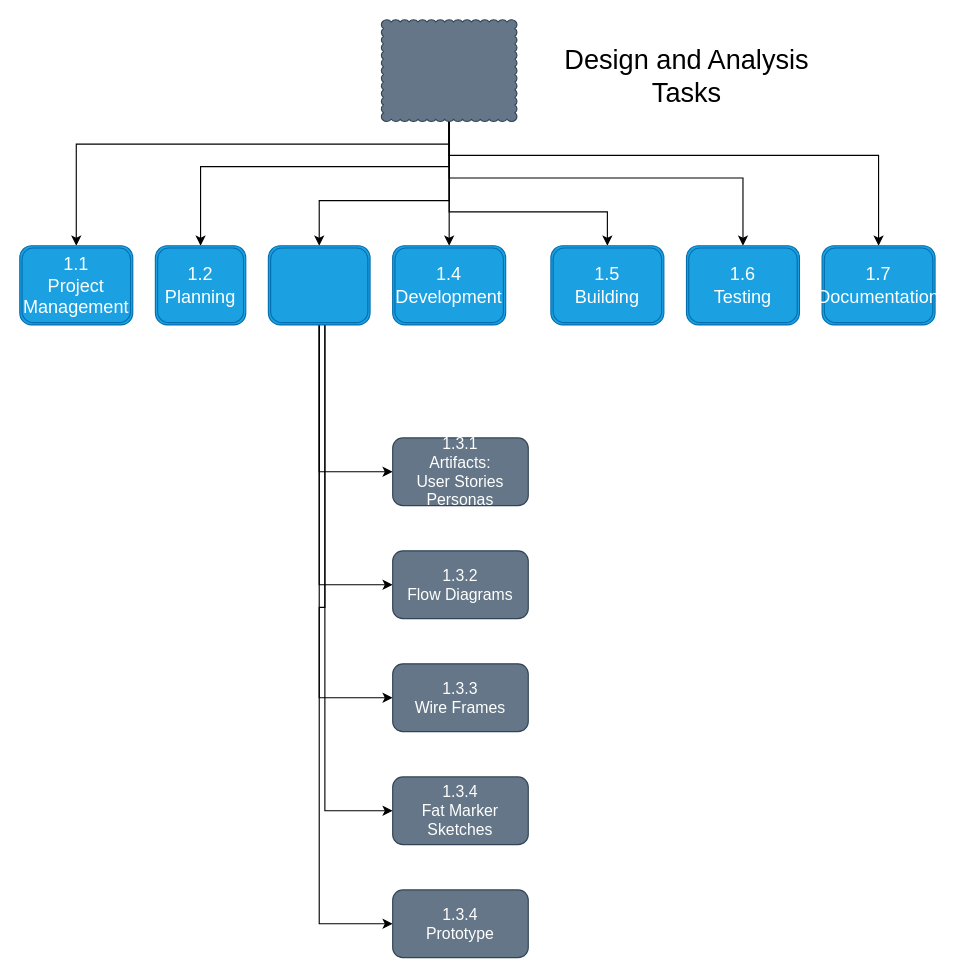
This 959x977 diagram has some shape labels left out. Each missing label, with the centre of its shape:
1 Pomodoro Timer: the point at 448,70
1.3 Design & Analysis: the point at 318,285
